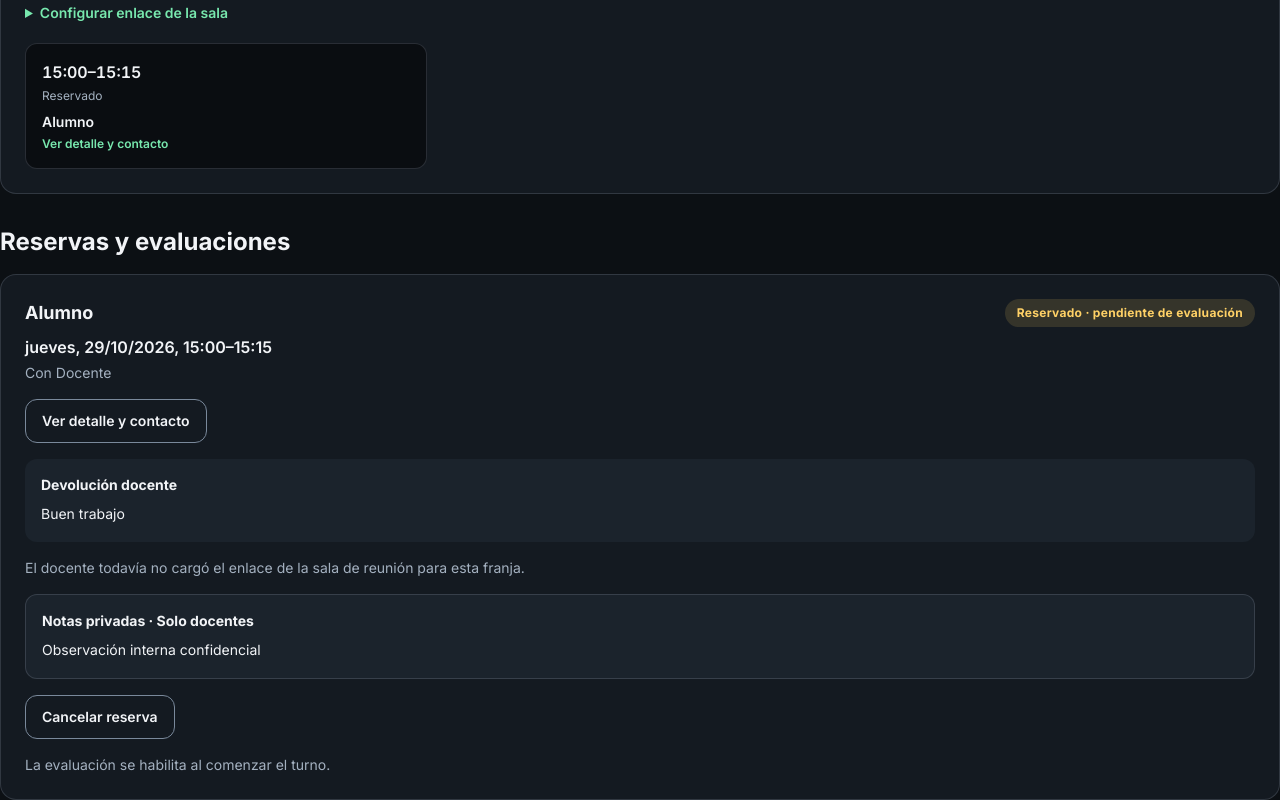
it: resultado y notas privadas del turno › permite abrir el mismo detalle desde la lista de reservas y avisa si faltan contactos
(page scrolled)
Click the button "Ver detalle y contacto". click: (116, 421)
box: [25,399,206,443]
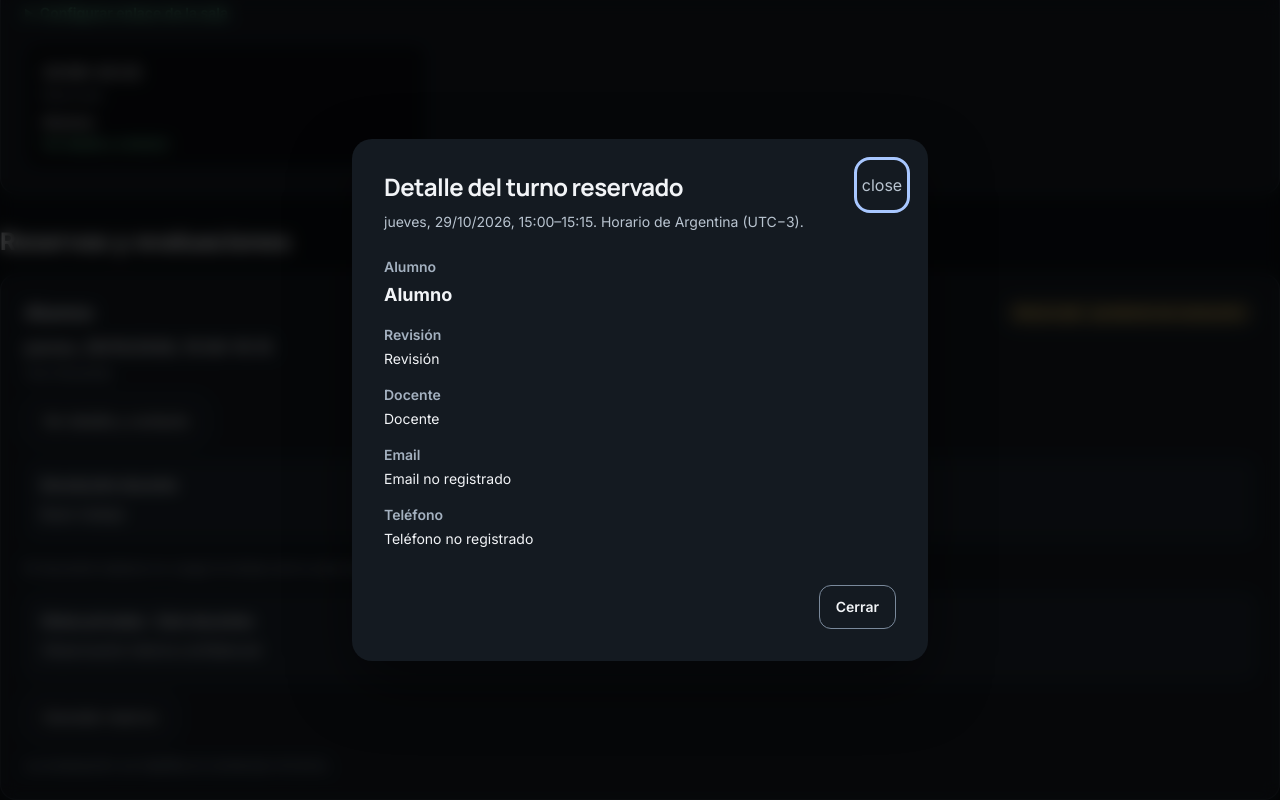
Check: the text "Email no registrado" is shown, box [384,470,511,487]
Check: the text "Teléfono no registrado" is shown, box [384,530,533,547]
